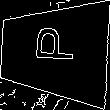P_W: (31, 32, 78, 72)
